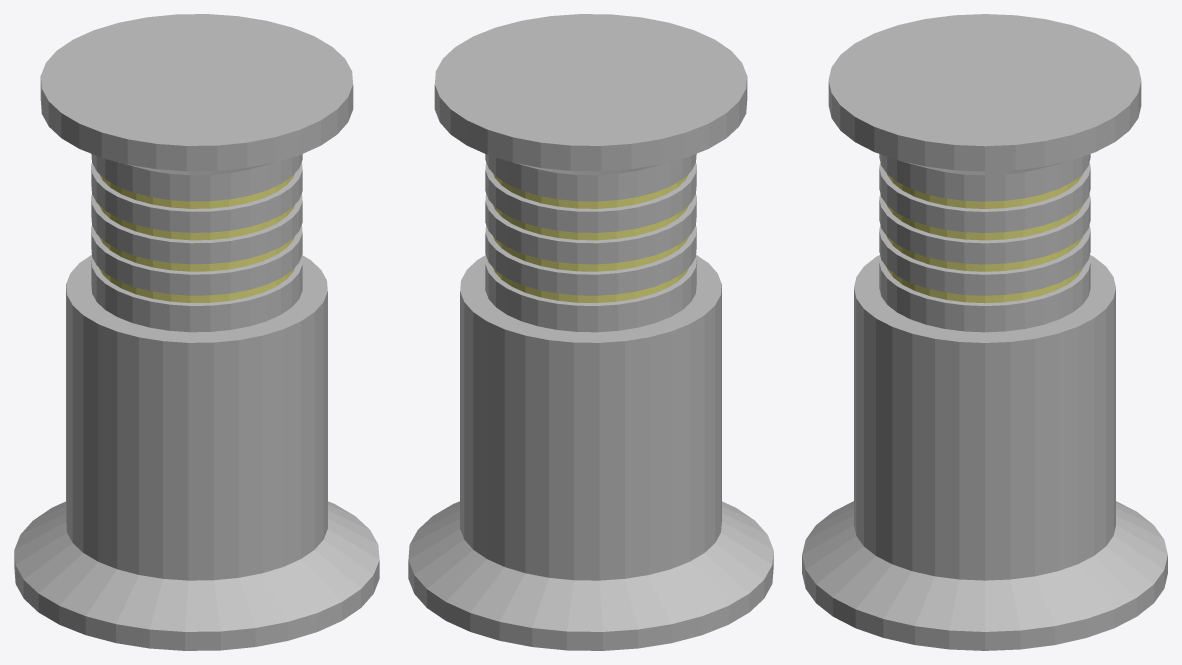
The model's file is 1xPillar.fbx.
3 views of the same model, side by side, from view 1: azimuth 30°, elevation 25°; view 2: azimuth 150°, elevation 25°; view 3: azimuth 270°, elevation 25° (orthographic).
Visible parts, largest first — view 1: 1xPillar; view 2: 1xPillar; view 3: 1xPillar.
Part boxes in pixels (x1,y1,x2,y2): 1xPillar: (14,14,379,650); 1xPillar: (408,14,773,650); 1xPillar: (802,14,1167,650).
Size of the model in its own units: 183 by 272 by 183.
